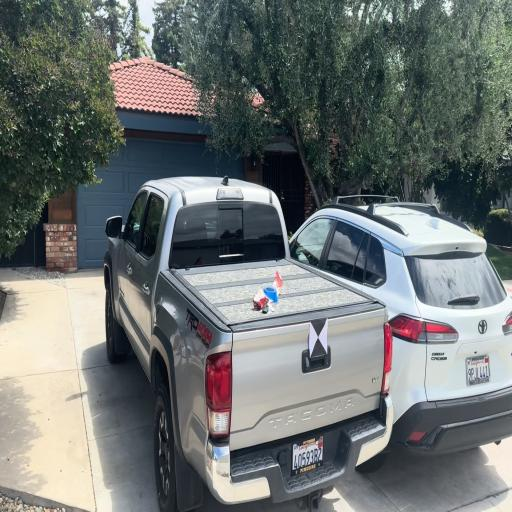target: (310, 318, 328, 359)
